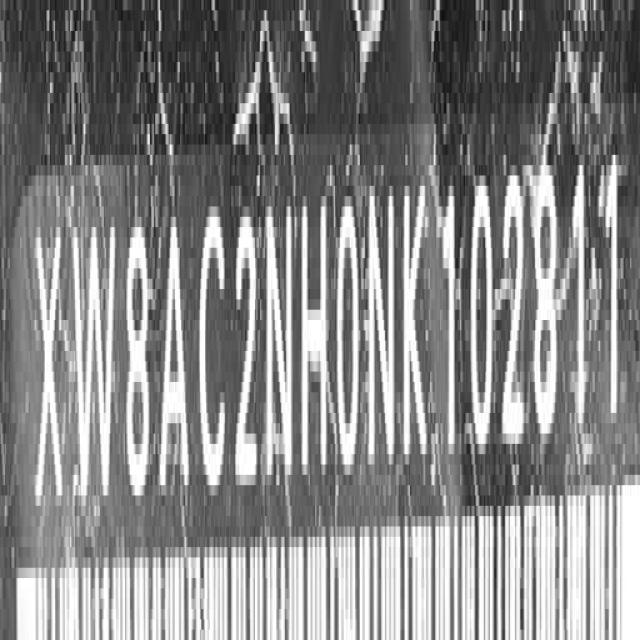0: (469, 167, 494, 455), (336, 185, 360, 481)
1: (605, 157, 624, 445), (442, 178, 461, 464), (573, 153, 588, 440)
2: (502, 175, 528, 458), (234, 201, 258, 501)
8: (126, 209, 153, 507), (532, 170, 560, 454)
A: (160, 202, 190, 504)
C: (200, 200, 228, 500)
H: (303, 193, 330, 493)
K: (403, 161, 430, 470)
N: (268, 197, 296, 496), (369, 178, 396, 480)
W: (74, 198, 117, 513)
X: (35, 210, 63, 523)
